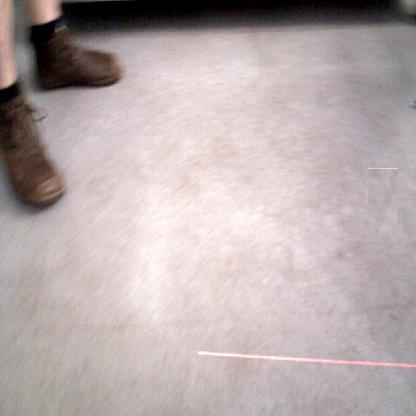mark: (368, 168, 398, 245)
